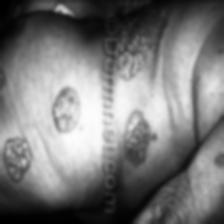Non-Cancerous Skin Condition: (126, 0, 224, 206), (0, 4, 101, 198)
